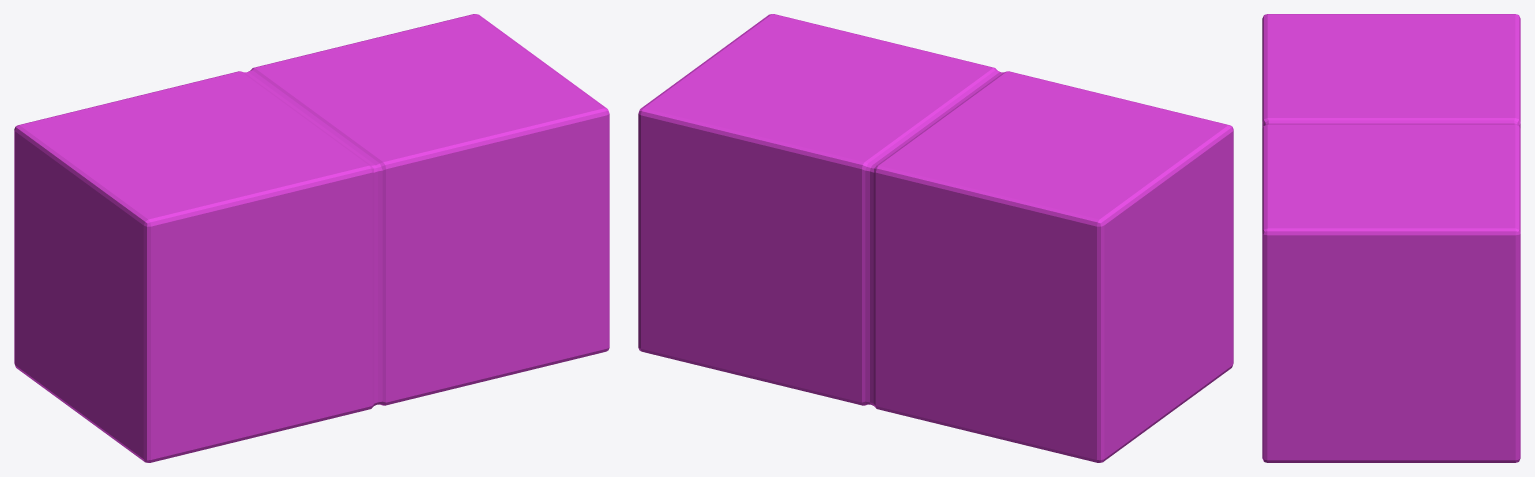
Rendered from 2_Obstaculos.fbx.
The picture shows the model from 3 angles, left to right: view 1: azimuth 30°, elevation 25°; view 2: azimuth 150°, elevation 25°; view 3: azimuth 270°, elevation 25°; orthographic projection. The views are drawn at different scales.
Parts seen in each view (by area): view 1: Cube.006; view 2: Cube.006; view 3: Cube.006.
Part boxes in pixels (left/top/right/bottom): Cube.006: left=14, top=14, right=609, bottom=462; Cube.006: left=638, top=14, right=1233, bottom=462; Cube.006: left=1262, top=14, right=1520, bottom=462.
Size of the model in its own units: 613 by 306 by 306.
